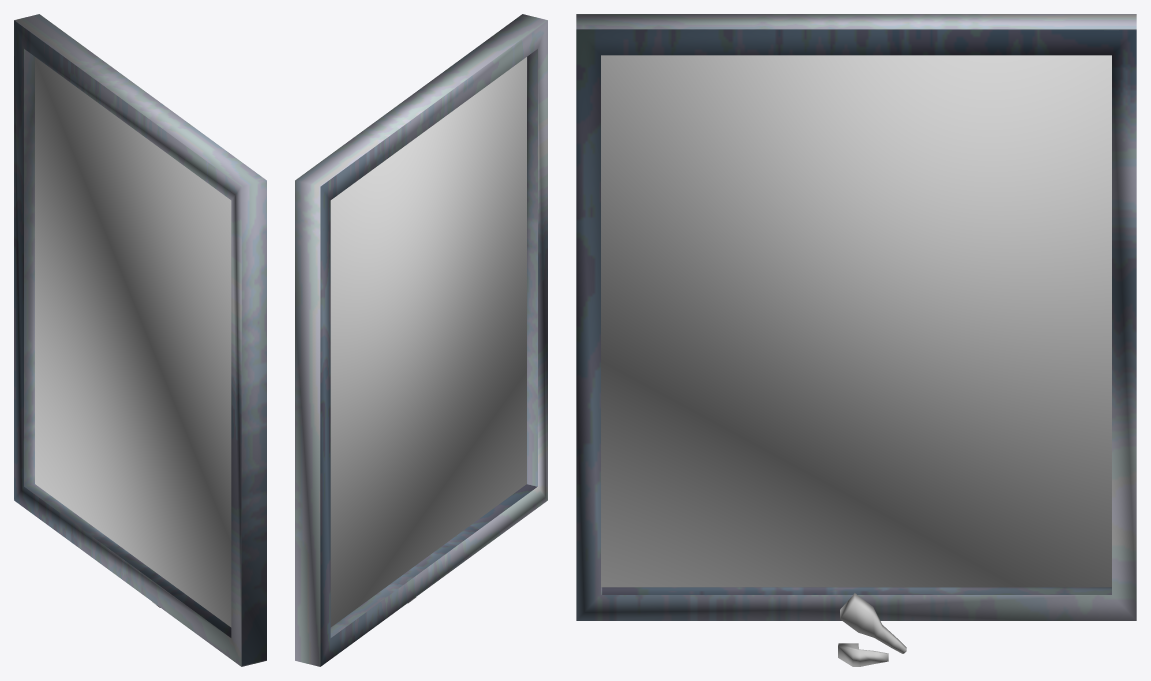
Rendered from ventana baño.fbx.
3 views of the same model, side by side, from view 1: azimuth 30°, elevation 25°; view 2: azimuth 150°, elevation 25°; view 3: azimuth 270°, elevation 25° (orthographic). The views are drawn at different scales.
Visible parts, largest first — view 1: Vidrio; view 2: Vidrio; view 3: Vidrio, Seguro.
Part boxes in pixels (<box>): Vidrio: <box>14,14,266,666</box>; Vidrio: <box>295,14,547,666</box>; Vidrio: <box>576,14,1136,653</box>; Seguro: <box>838,643,888,666</box>.
Size of the model in its own units: 19.08 by 210 by 170.
